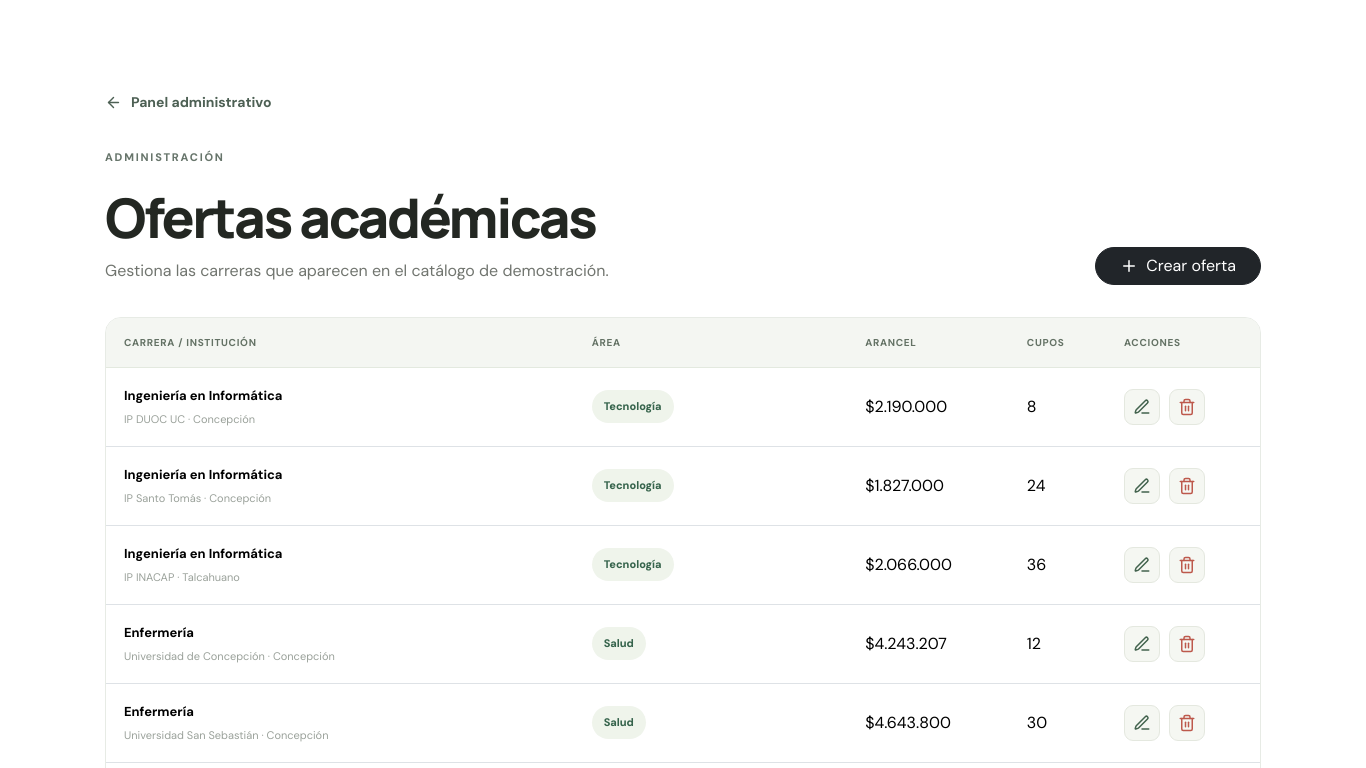
Test: Administración de ofertas (CRUD visual) › muestra el listado e inicia el flujo de eliminación confirmado
The width and height of the screenshot is (1366, 768).
Click the button named "eliminar" in the row of "IP DUOC UC".
click(1187, 407)  # box top-left (1169, 389), bottom-right (1205, 425)
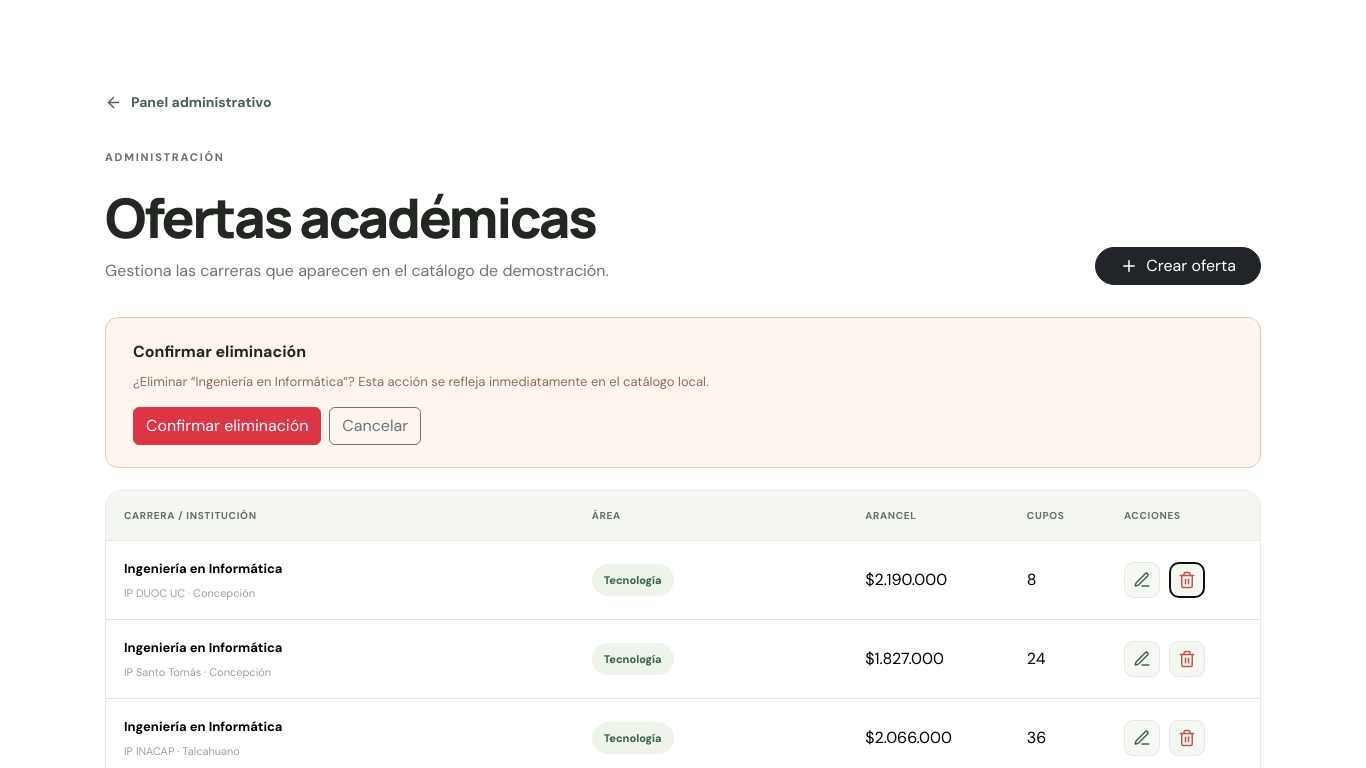
Expected: the dialog named "confirmación de eliminación" is shown, top-left (105, 317), bottom-right (1261, 468)
Click the button "Confirmar eliminación".
click(227, 426)  # box top-left (133, 407), bottom-right (321, 445)
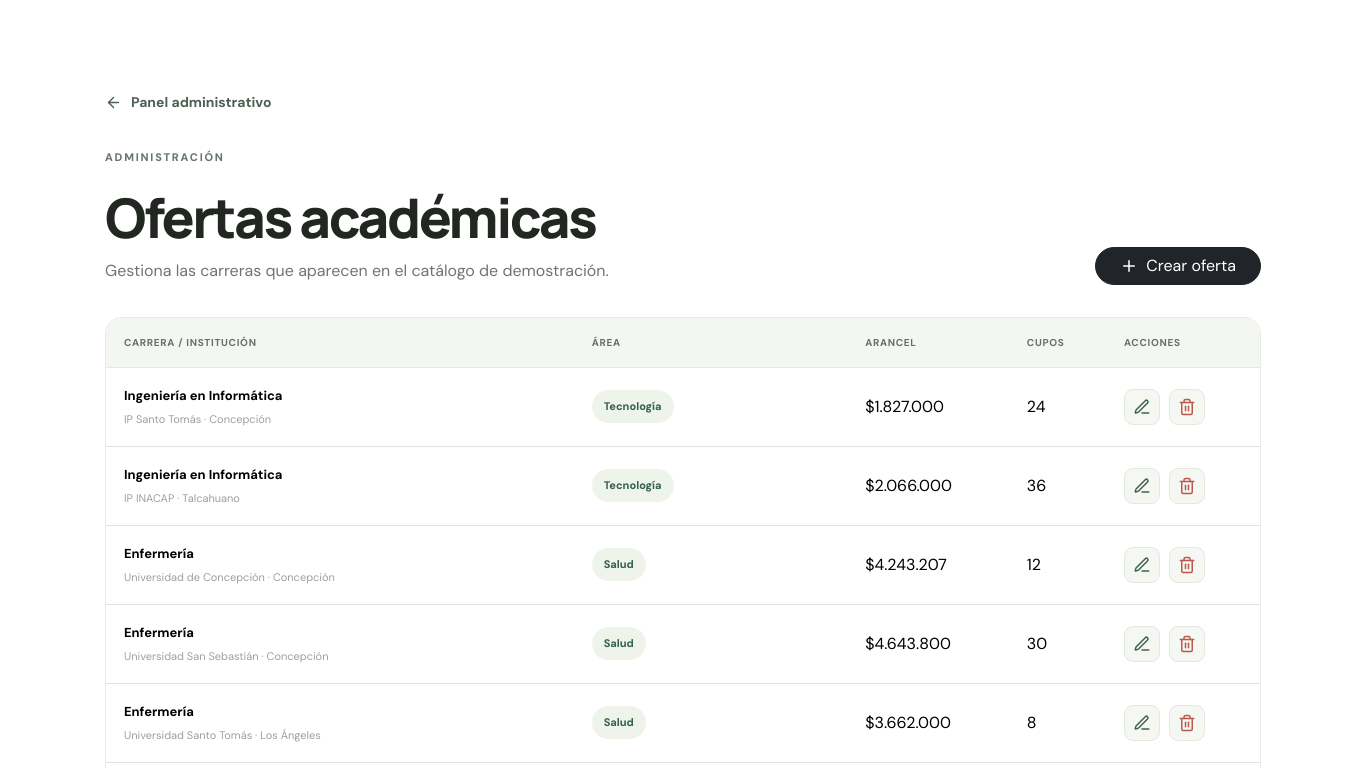
Expected: the number of rows with test id "admin-oferta-row" is 20
